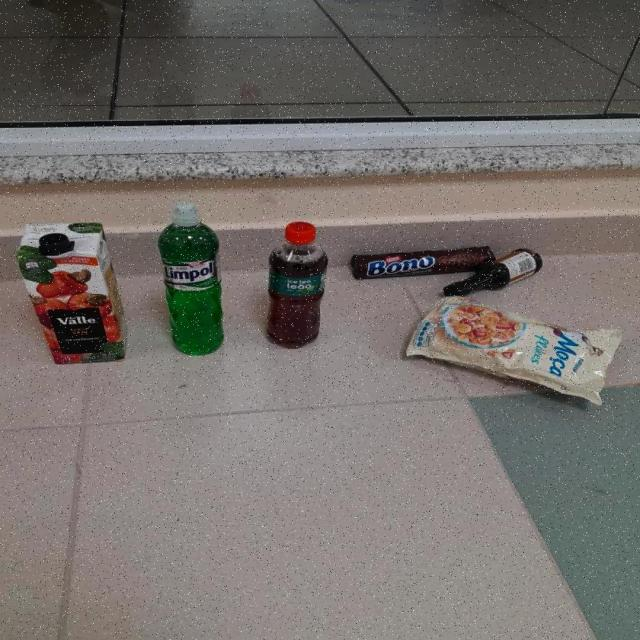Cleaner: (157, 205, 225, 359)
Cookies: (351, 246, 496, 281)
CornFlakes: (405, 297, 623, 409)
EnglishSauce: (445, 250, 548, 299)
IceTea: (266, 224, 328, 352)
